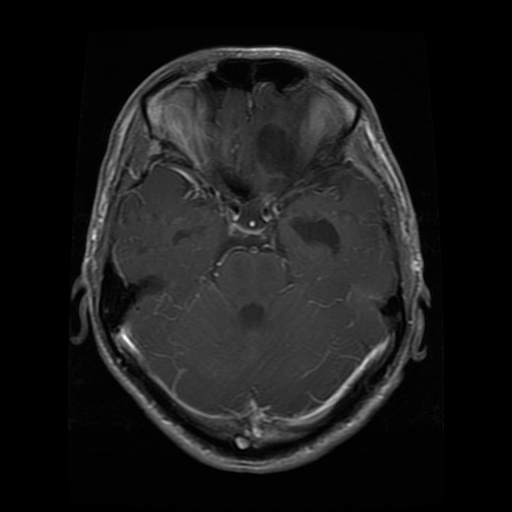glioma: (254, 122, 298, 174)
